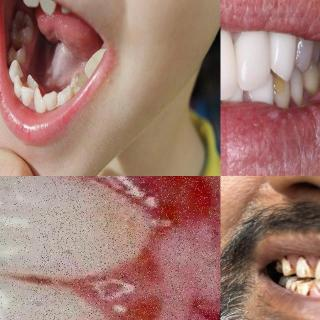Gum Swelling: (68, 176, 220, 320)
cavities: (15, 17, 31, 35)
maligned: (32, 86, 47, 114), (25, 74, 42, 95), (40, 0, 59, 18), (20, 87, 35, 109)
stains: (270, 66, 293, 106), (297, 254, 316, 278), (278, 256, 296, 278), (299, 284, 315, 296), (278, 277, 292, 287), (290, 280, 300, 290), (314, 280, 320, 292)
